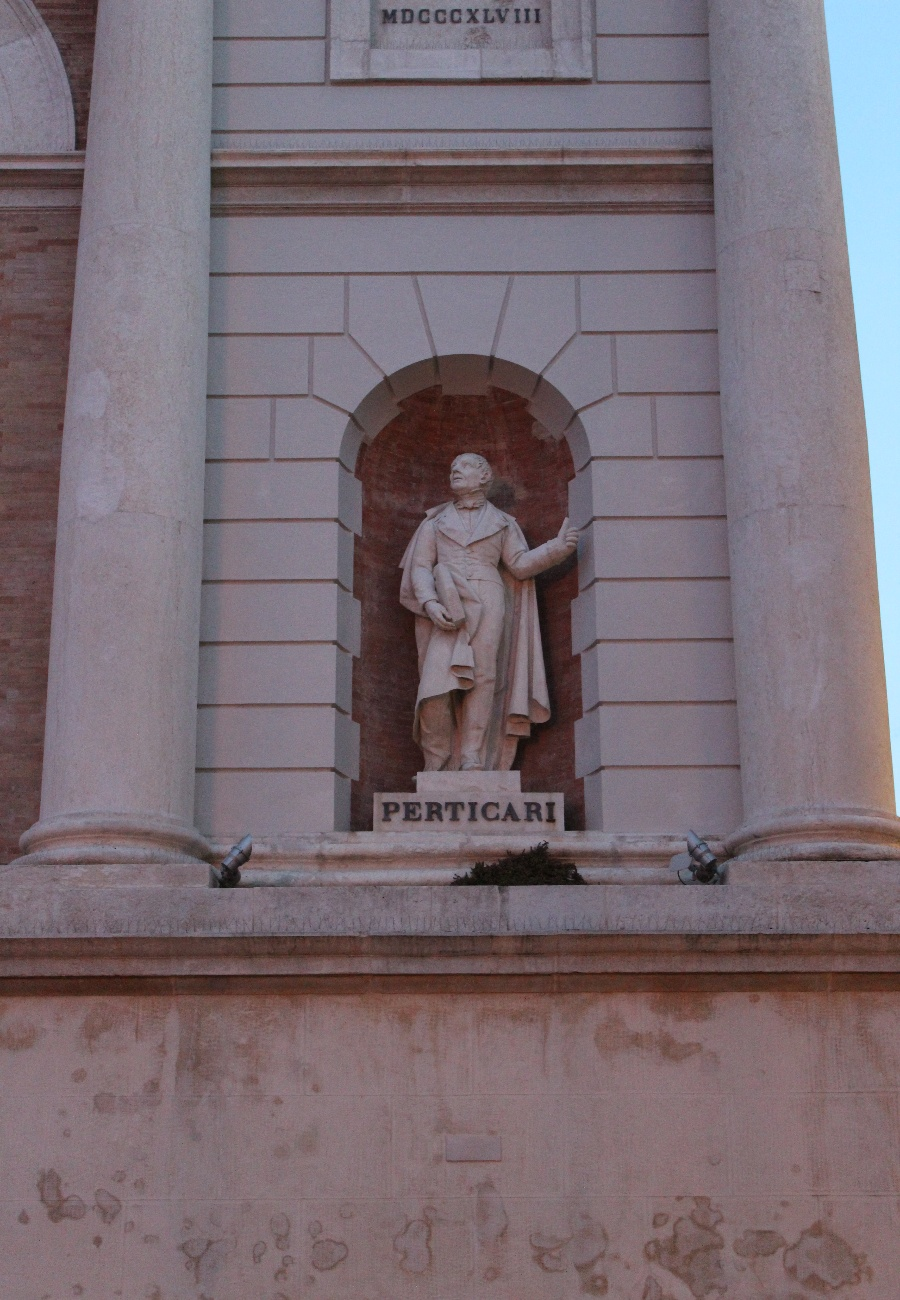Giulio Perticari: (337, 351, 608, 851)
